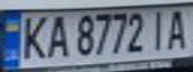2: (127, 9, 148, 53)
7: (90, 10, 112, 56), (109, 9, 130, 55)
8: (72, 11, 96, 57)
A: (42, 12, 72, 60), (163, 7, 193, 52)
I: (145, 7, 172, 52)
K: (15, 12, 51, 61)
